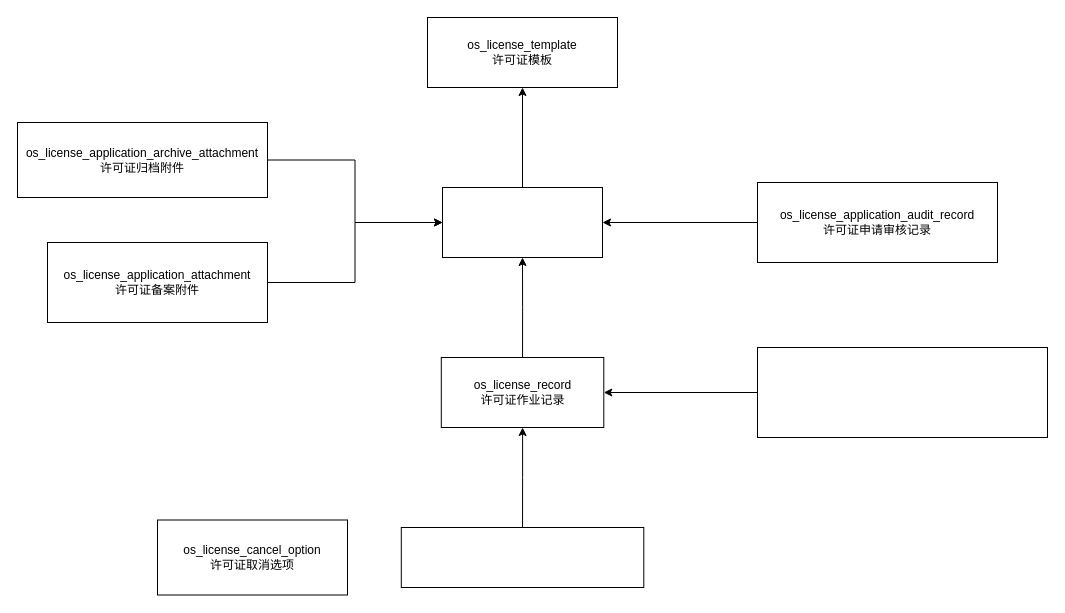
The diagram is 1065 pixels wide and 613 high, and some of its shapes have lost their labels. Each missing label, with the centre of its shape:
os_license_application 许可证申请: the point at 522,222
os_license_cancel_option_record 许可证取消选项记录: the point at 522,557
os_license_extension_application_audit_record 许可证延期申请申请记录: the point at 902,392
